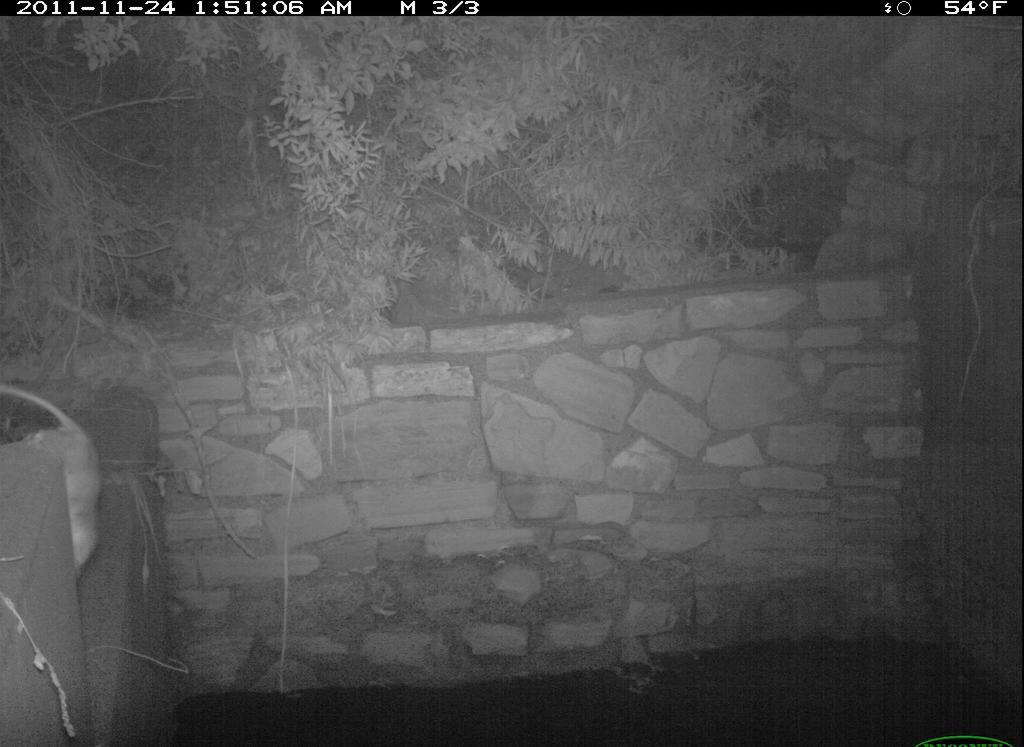rodent: (1, 375, 111, 590)
